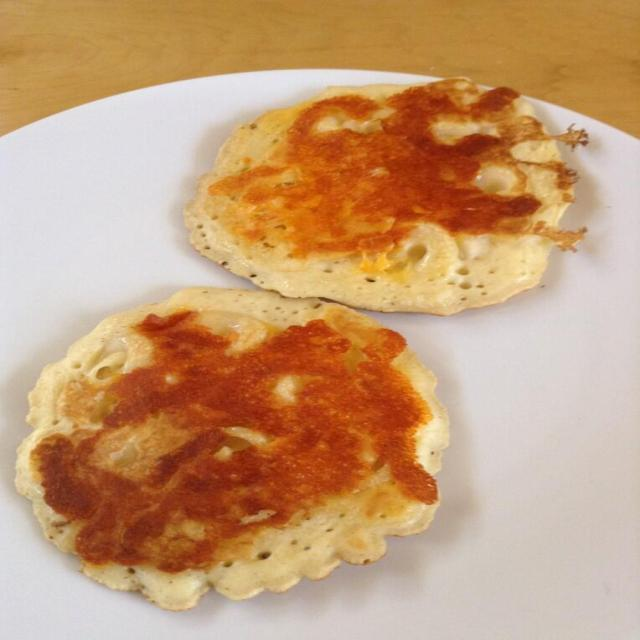Pancake: (15, 286, 450, 612), (181, 76, 591, 316)
